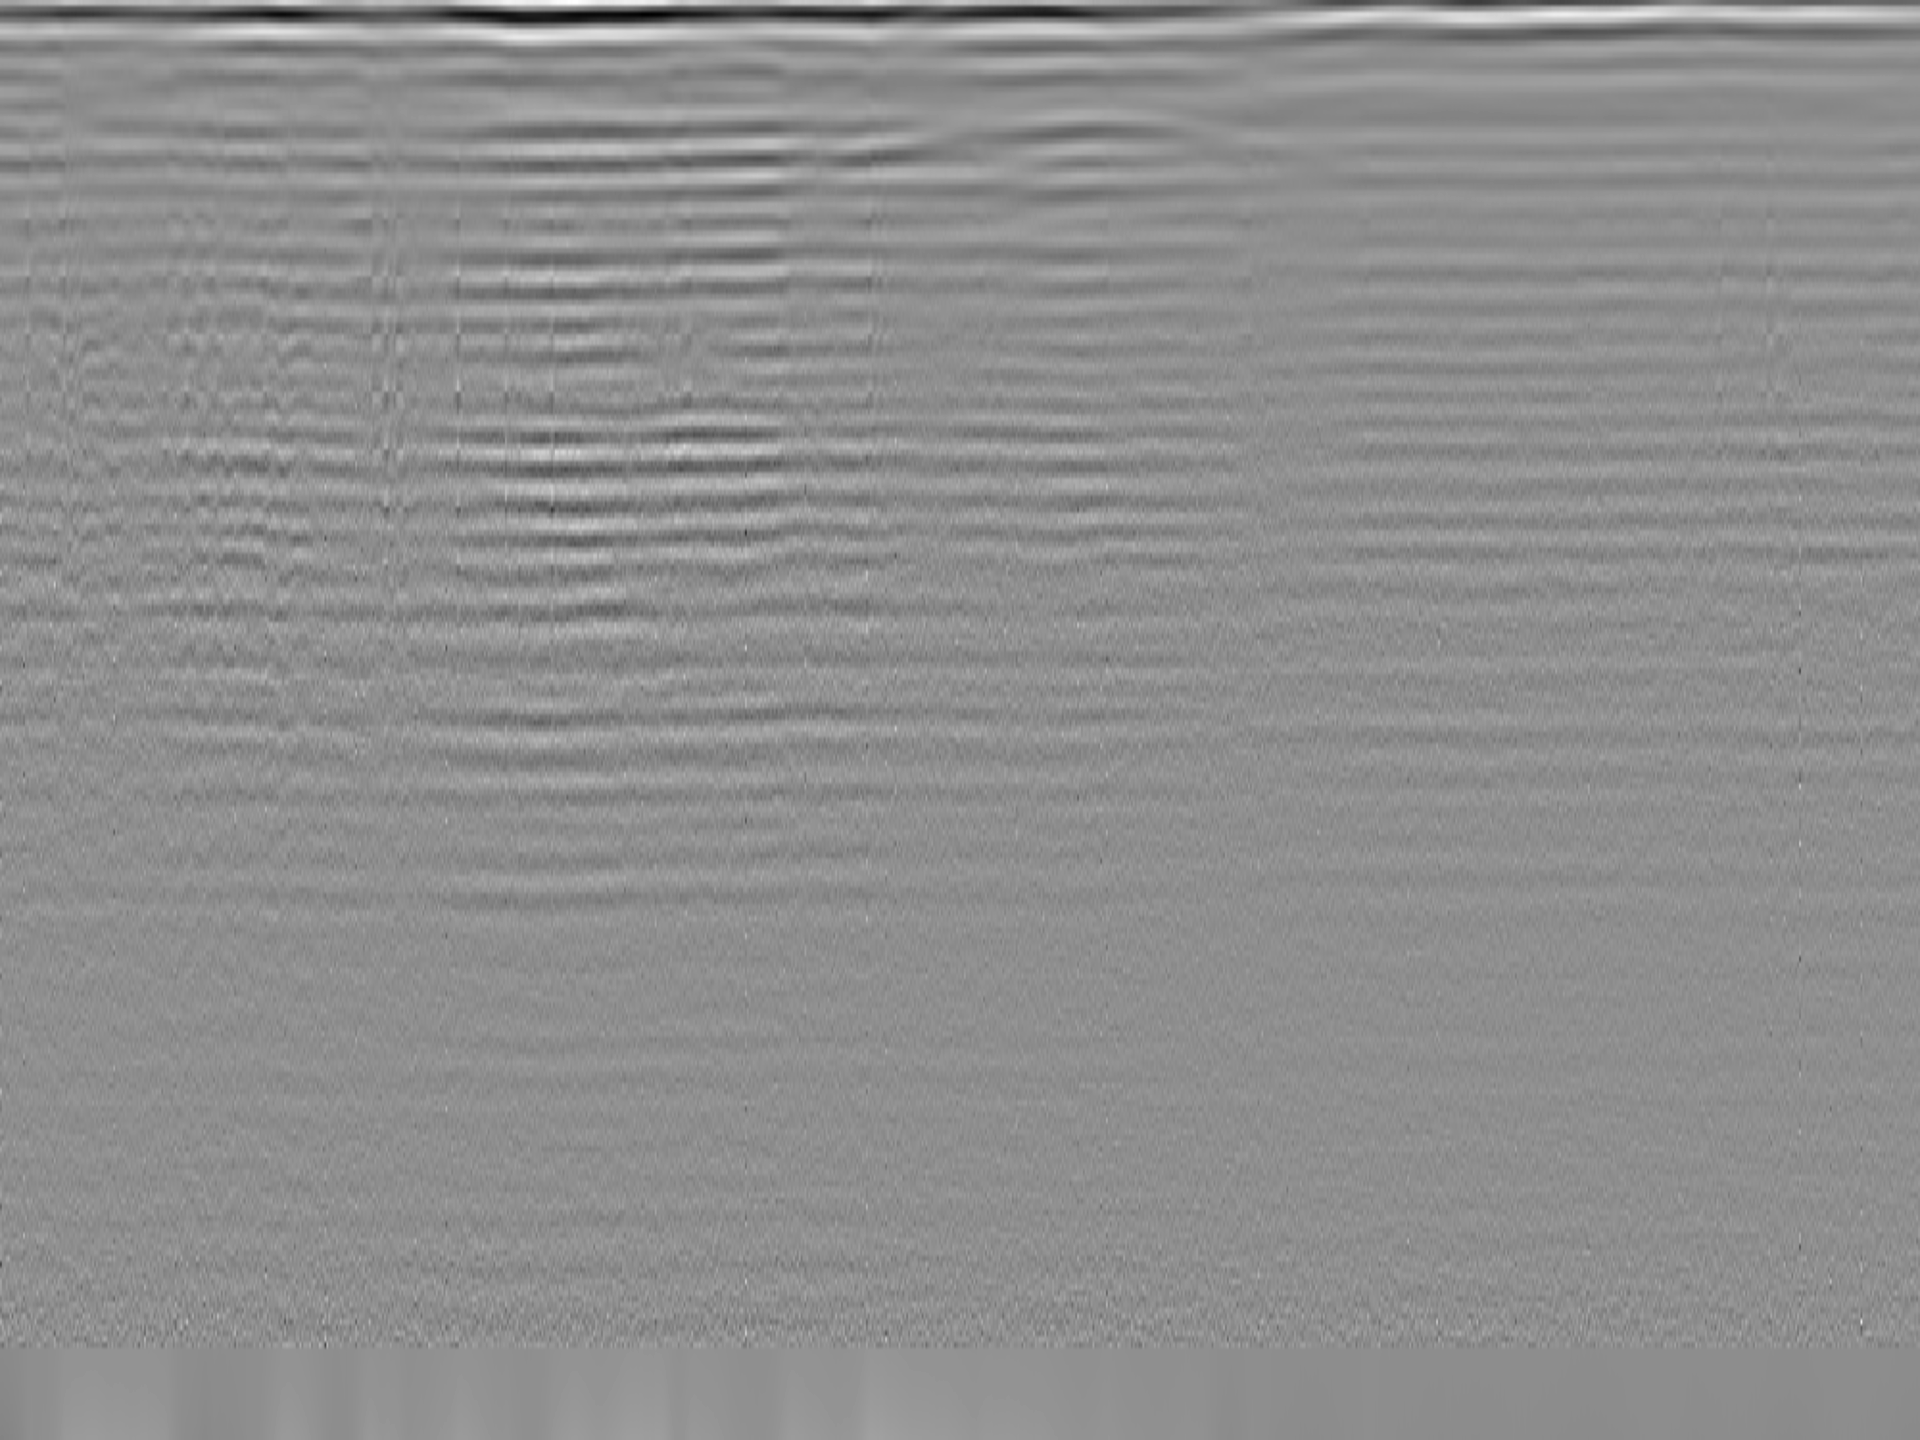Tunnel: (866, 106, 1321, 169)
